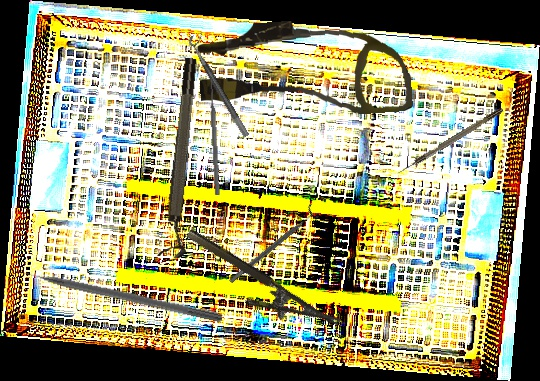Cannula: (195, 12, 414, 126)
Fixation Ring: (156, 57, 210, 259), (224, 202, 322, 289), (186, 30, 258, 139)
Hook Surgical: (395, 107, 505, 176)
Needle Holder: (173, 226, 341, 351)
Pusher: (8, 262, 224, 324), (207, 77, 222, 196)
